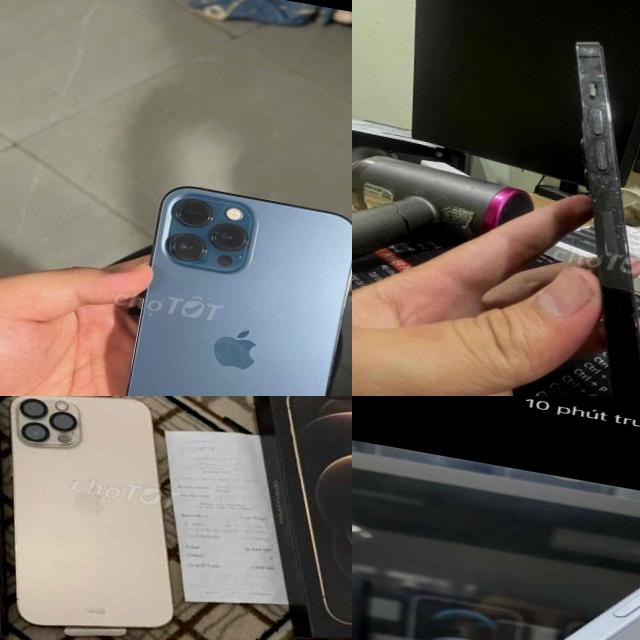scratch: (532, 40, 640, 276)
